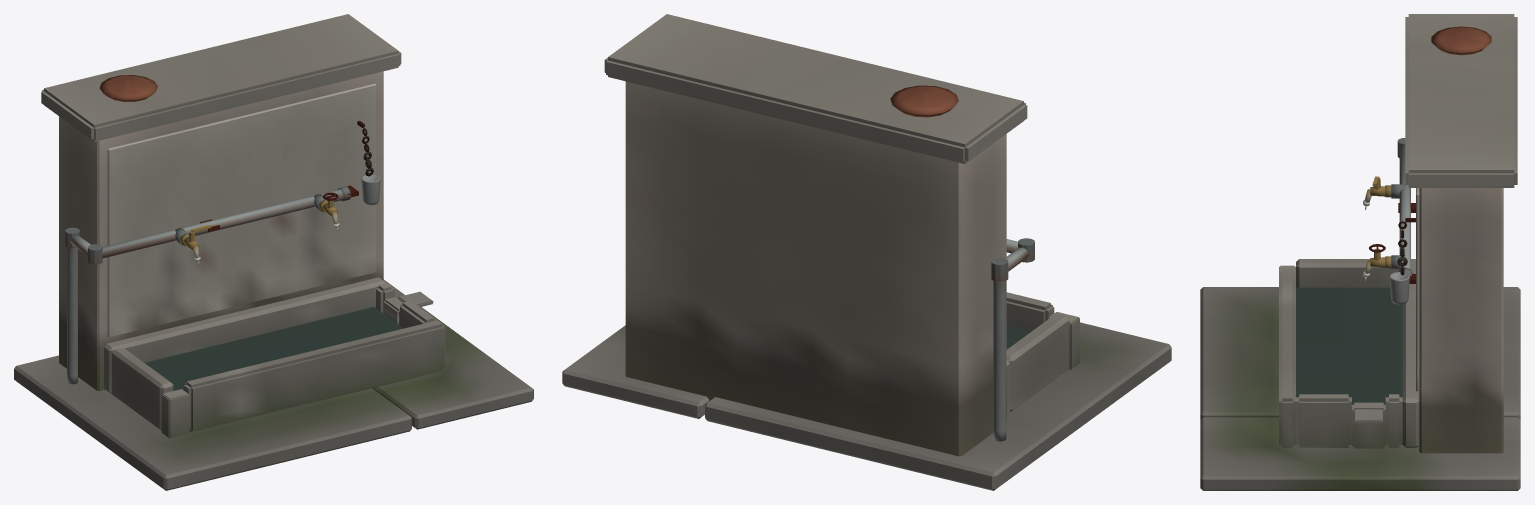
Rendered from tap_pyaau_v2.glb.
3 views of the same model, side by side, from view 1: azimuth 30°, elevation 25°; view 2: azimuth 150°, elevation 25°; view 3: azimuth 270°, elevation 25° (orthographic). The views are drawn at different scales.
Visible parts, largest first — view 1: hb_main, hb_brick, hb_metal; view 2: hb_brick, hb_main, hb_metal; view 3: hb_main, hb_brick, hb_metal.
Boxes of the visible parts, x1=… form: hb_main: x1=14, y1=14, x2=533, y2=490; hb_brick: x1=59, y1=71, x2=383, y2=390; hb_metal: x1=65, y1=121, x2=380, y2=384; hb_brick: x1=625, y1=81, x2=1006, y2=456; hb_main: x1=562, y1=14, x2=1171, y2=490; hb_metal: x1=991, y1=238, x2=1034, y2=441; hb_main: x1=1200, y1=14, x2=1520, y2=490; hb_brick: x1=1419, y1=188, x2=1503, y2=453; hb_metal: x1=1364, y1=138, x2=1415, y2=304.
Bounding box in the file's own units: 1.6 × 1.23 × 1.14.
